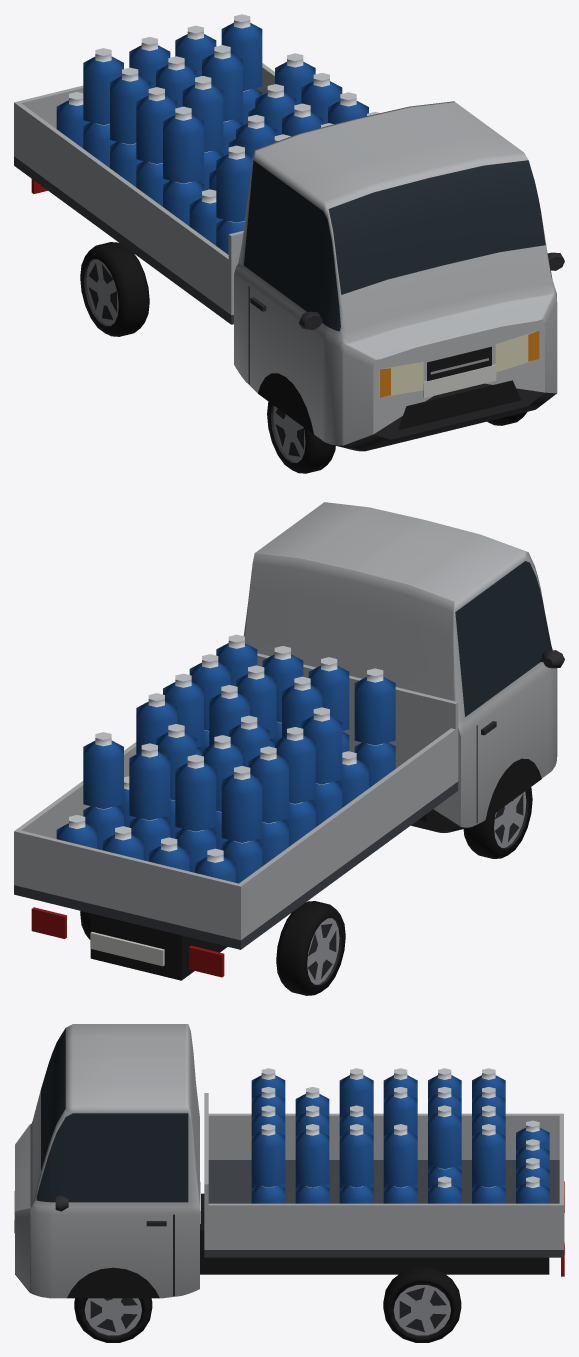
Rendered from mini_truck.glb.
3 renders of one model, top to bottom at view 1: azimuth 30°, elevation 25°; view 2: azimuth 150°, elevation 25°; view 3: azimuth 270°, elevation 25°, orthographic. The views are drawn at different scales.
Visible parts, largest first — view 1: mini_truck; view 2: mini_truck; view 3: mini_truck.
Part boxes in pixels (<box>): mini_truck: <box>14,14,564,473</box>; mini_truck: <box>14,502,564,995</box>; mini_truck: <box>14,1024,564,1342</box>.
Size of the model in its own units: 1.75 by 1.85 by 3.82.
